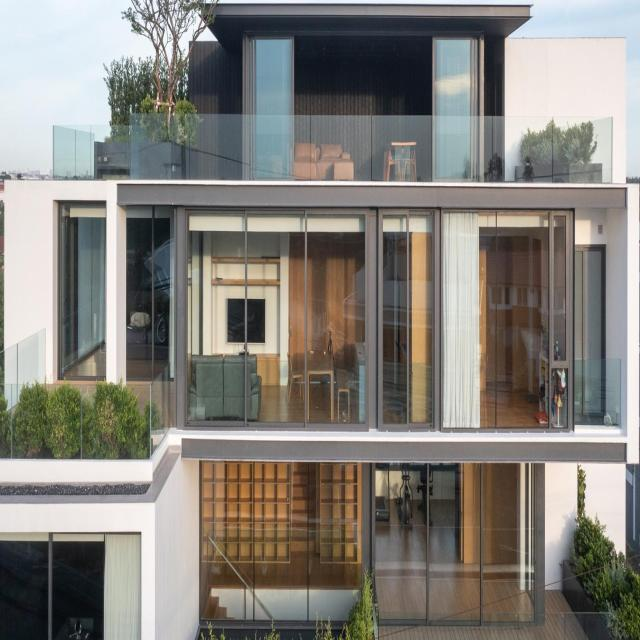door: (372, 461, 544, 625)
railing: (52, 122, 616, 186), (574, 356, 622, 426)
window: (379, 212, 605, 430), (188, 208, 372, 429), (199, 465, 362, 617), (0, 541, 104, 635), (57, 198, 107, 378), (127, 209, 172, 379), (434, 36, 476, 122), (252, 34, 294, 119)
